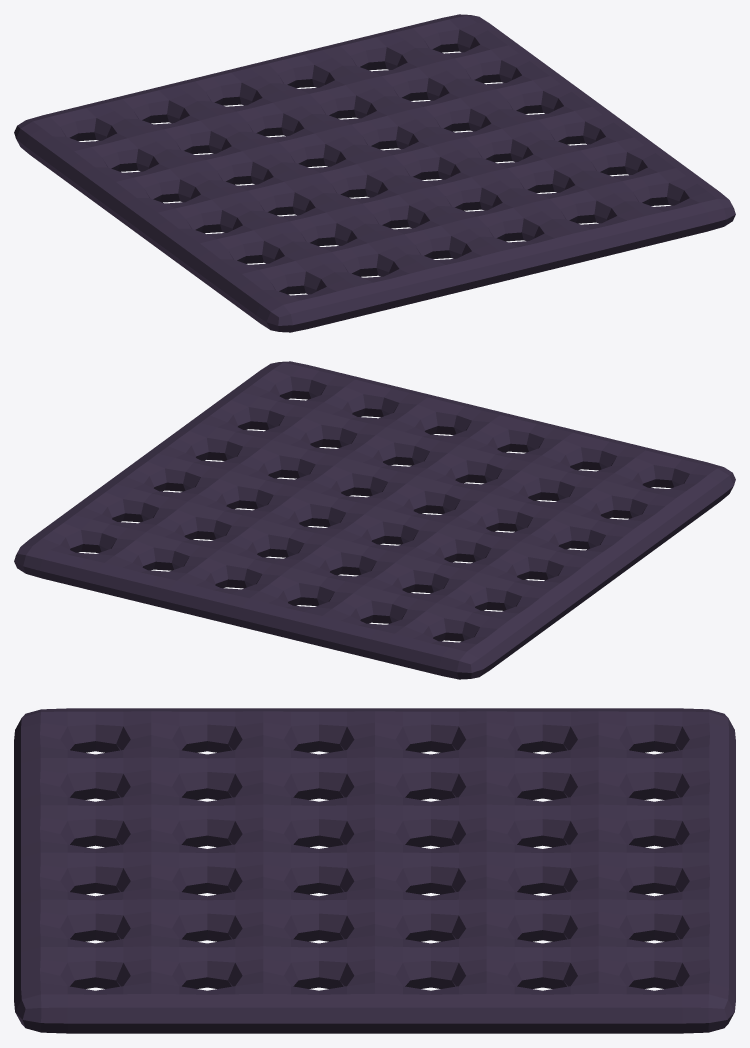
File: hole-lid.fbx
3 renders of one model, top to bottom at view 1: azimuth 30°, elevation 25°; view 2: azimuth 150°, elevation 25°; view 3: azimuth 270°, elevation 25°, orthographic. The views are drawn at different scales.
Visible parts, largest first — view 1: Cube; view 2: Cube; view 3: Cube.
Boxes of the visible parts, box(x1,y1,x2,y2) form: Cube: box(14, 14, 735, 332); Cube: box(14, 361, 735, 679); Cube: box(14, 708, 735, 1033).
Bounding box in the file's own units: 169 × 9.82 × 169.
